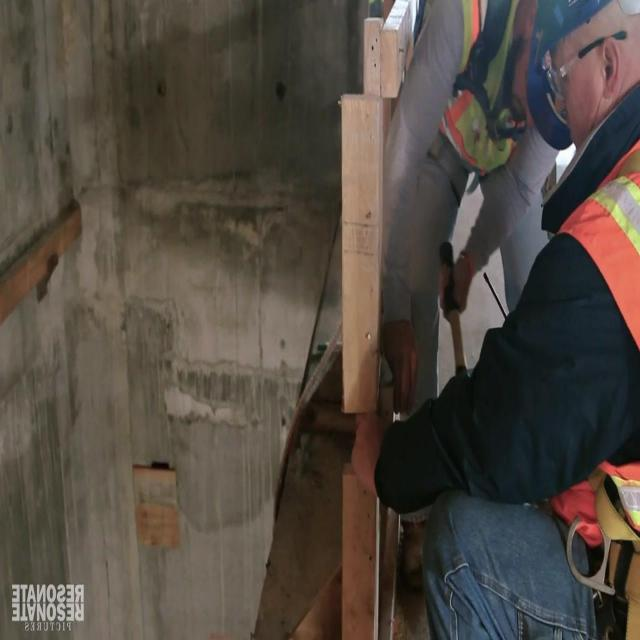Reflective-Jacket: (550, 124, 640, 569), (396, 2, 538, 186)
